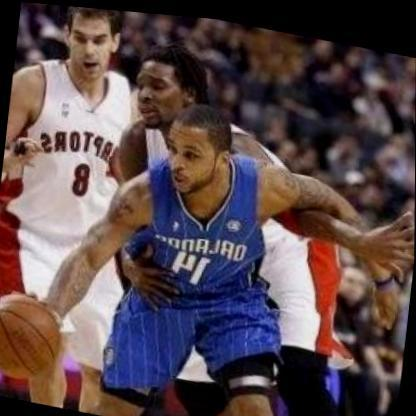basketball: (0, 286, 62, 382)
